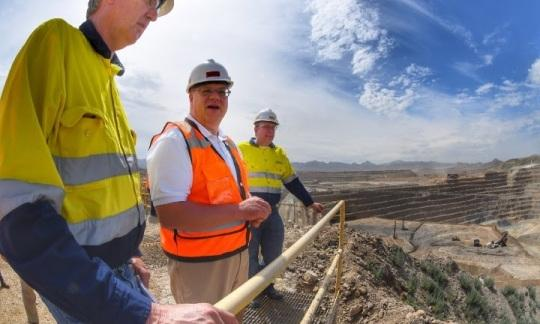helmet: (185, 57, 235, 92)
no_wear: (253, 108, 281, 128)
wear: (5, 45, 139, 258), (150, 125, 251, 251), (242, 143, 286, 203)
